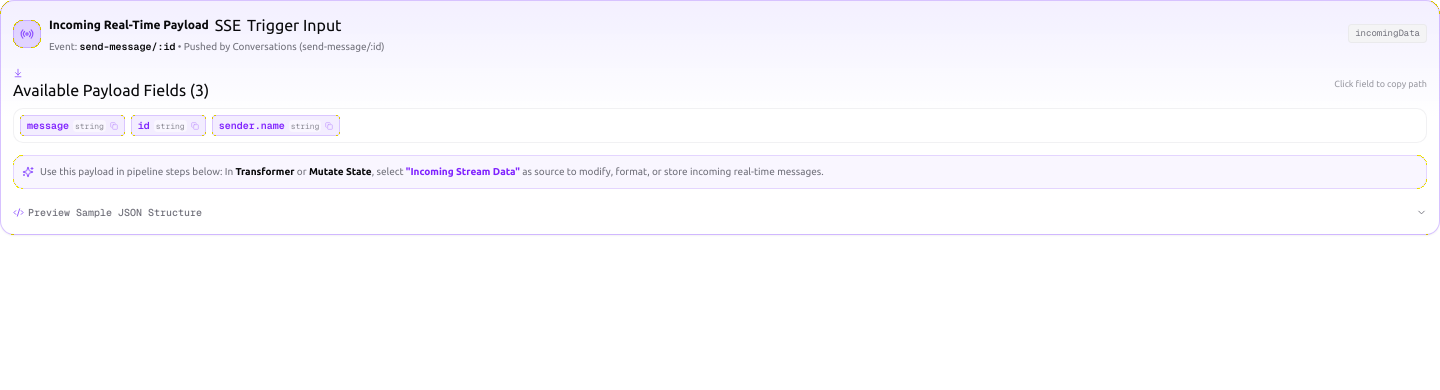
IncomingRealtimePayloadCard › renders live payload card with detected fields and toggles sample JSON preview
expect the text "Incoming Real-Time Payload" is shown: met, box [49,17,209,33]
expect the text "send-message/:id" is shown: met, box [80,40,176,53]
Click the button "Preview Sample JSON Structure" at (49, 213), box [13,203,1427,222]
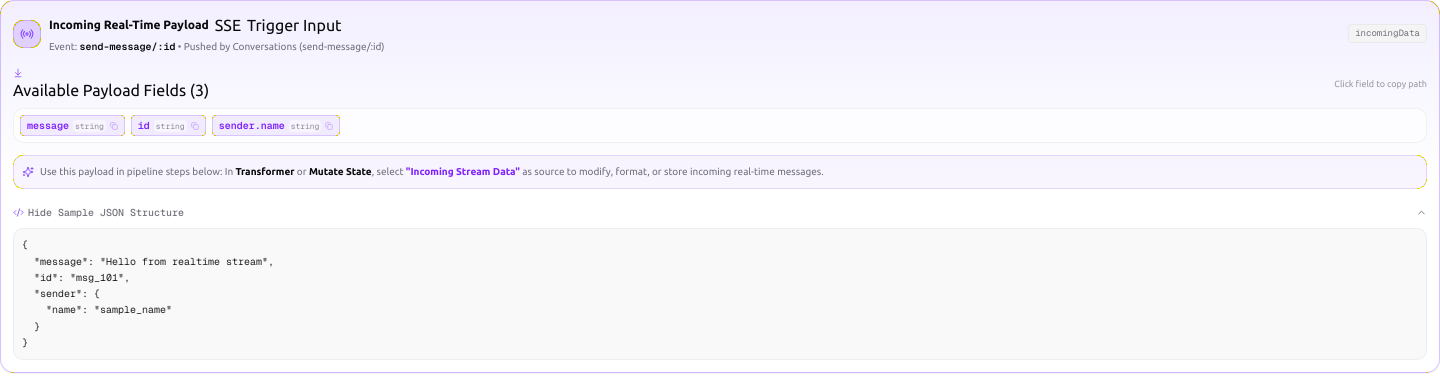
expect the text "Hide Sample JSON Structure" is shown: met, box [28,205,184,220]
expect the text "Hello from realtime stream" is shown: met, box [22,238,274,349]
